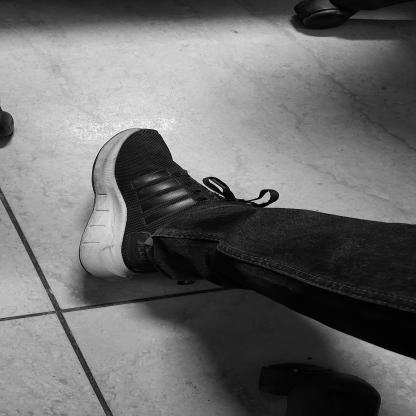ankle: (170, 231, 182, 237)
heel: (104, 274, 118, 279)
pinky: (158, 141, 165, 145)
right_foot: (82, 129, 237, 282)
toe: (121, 136, 134, 143)
